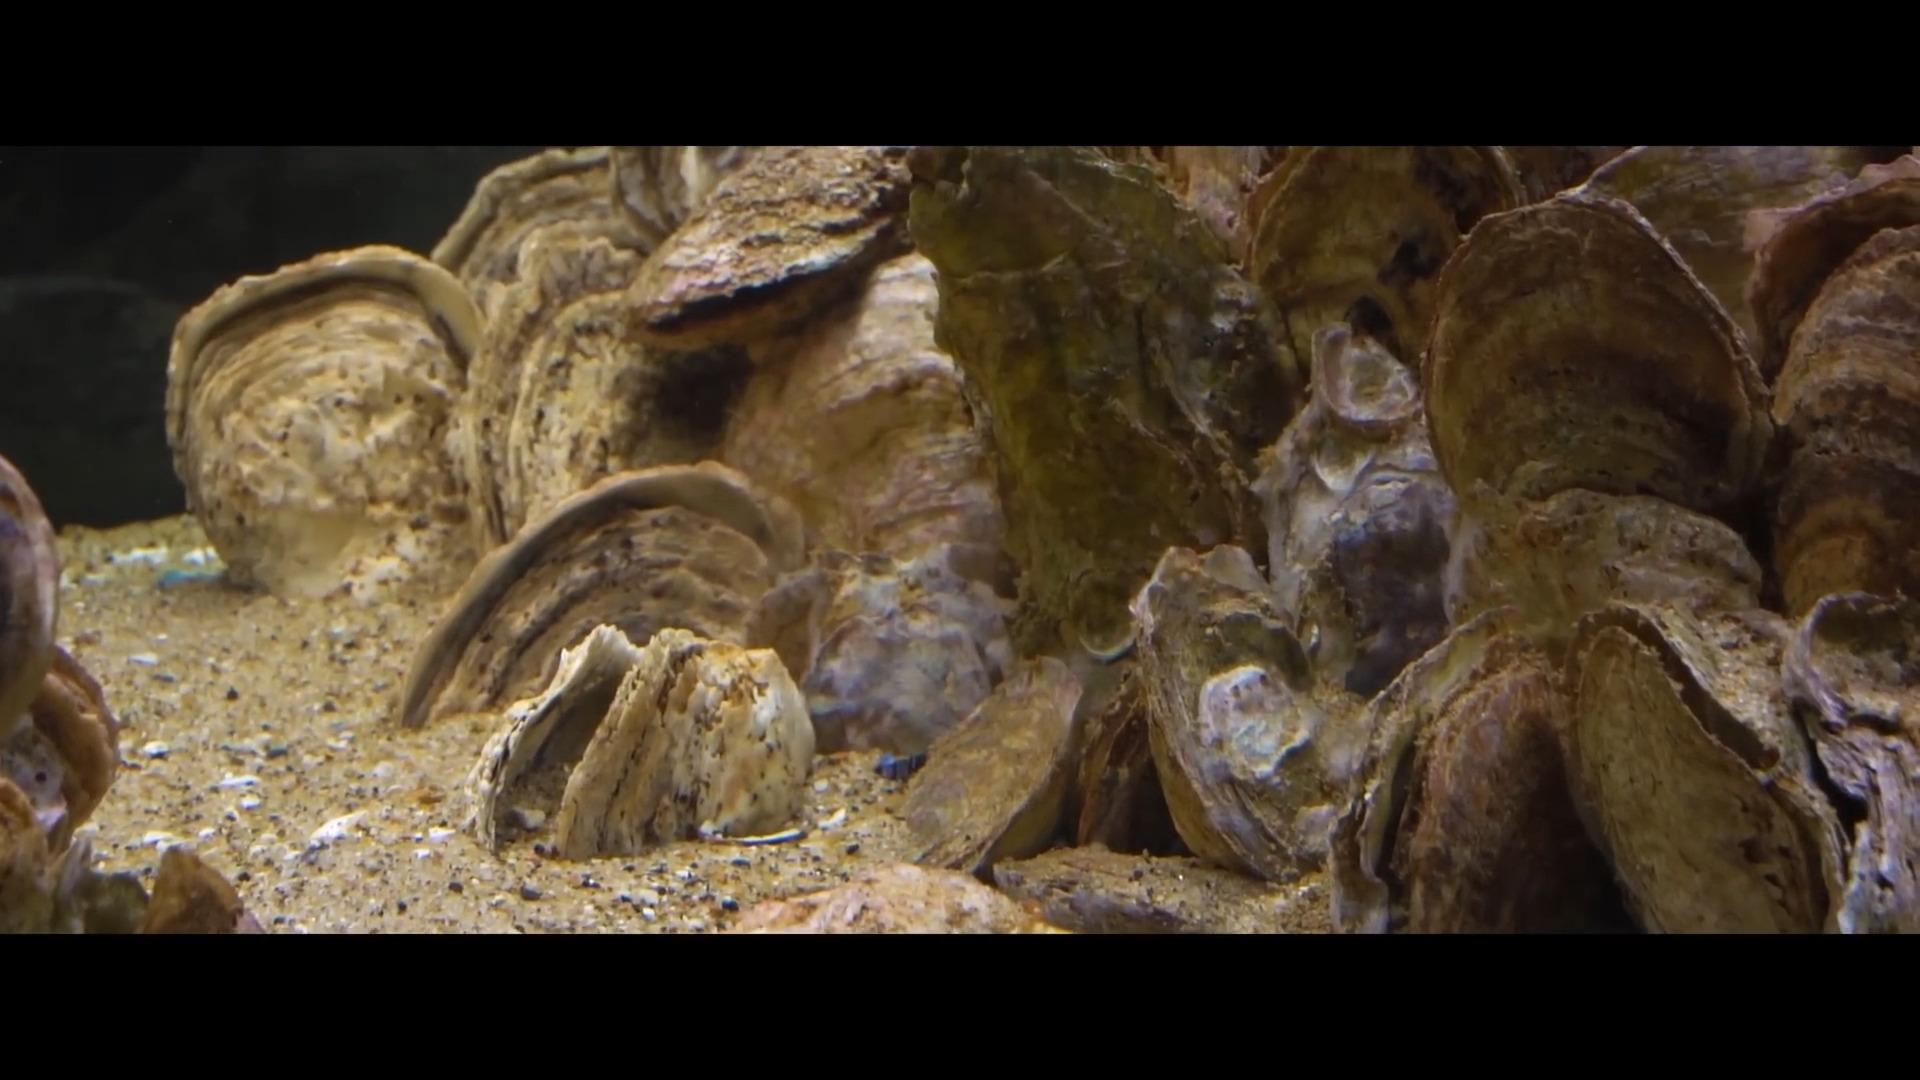Oyster: (907, 149, 1279, 662), (1424, 187, 1772, 521), (167, 245, 479, 600), (465, 620, 820, 857), (411, 510, 787, 732), (1575, 613, 1836, 927), (1247, 144, 1520, 389), (1577, 145, 1867, 348), (1396, 661, 1614, 931), (629, 148, 913, 348), (767, 546, 1009, 757), (497, 297, 686, 535), (887, 653, 1084, 878), (30, 649, 123, 837)
